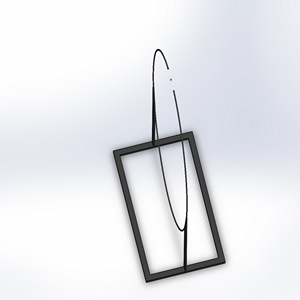circle: (111, 44, 226, 283)
